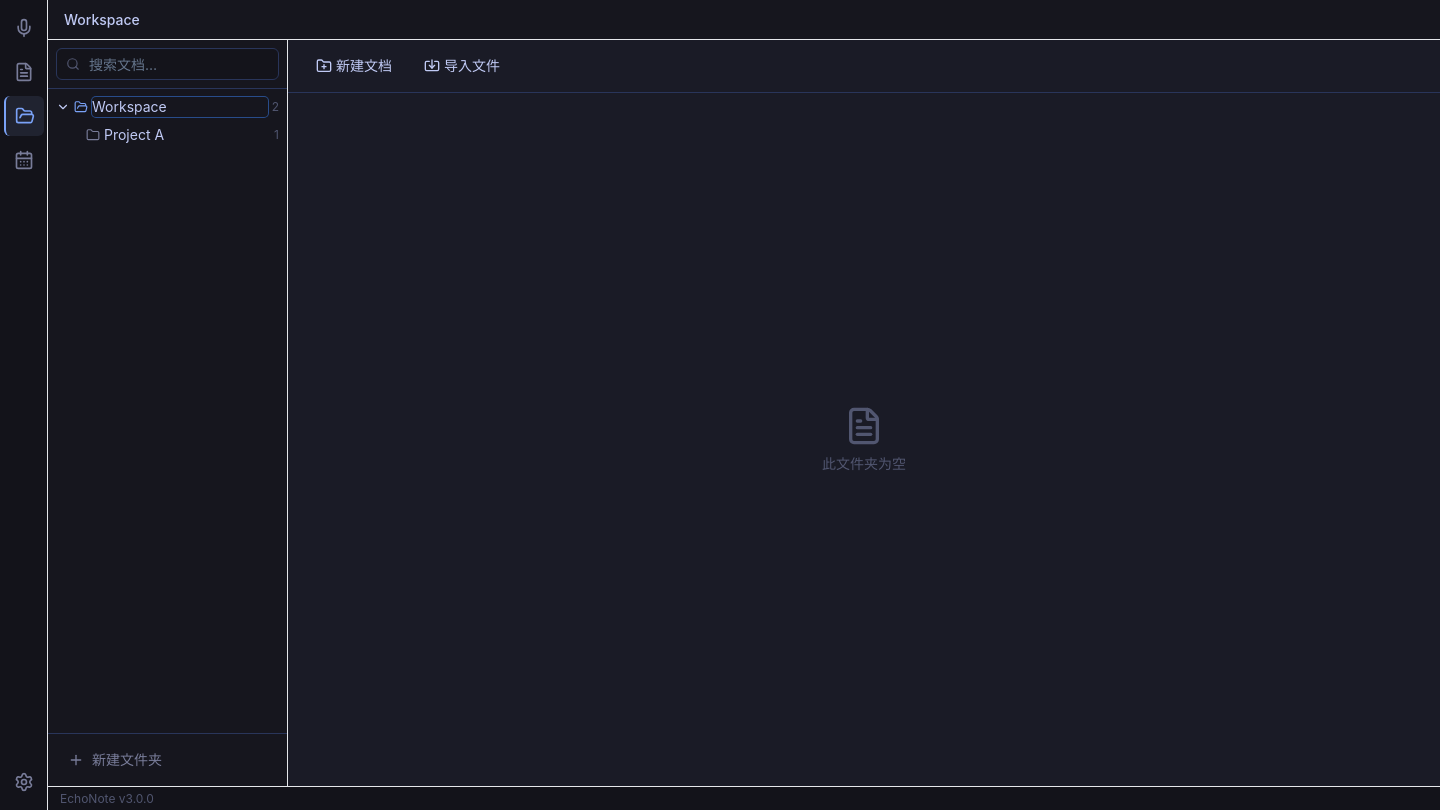
Test: workspace routing › opens an imported document in the editor after file selection
Step 1. Click the button "导入文件" → (462, 66), box [412,48,512,84]
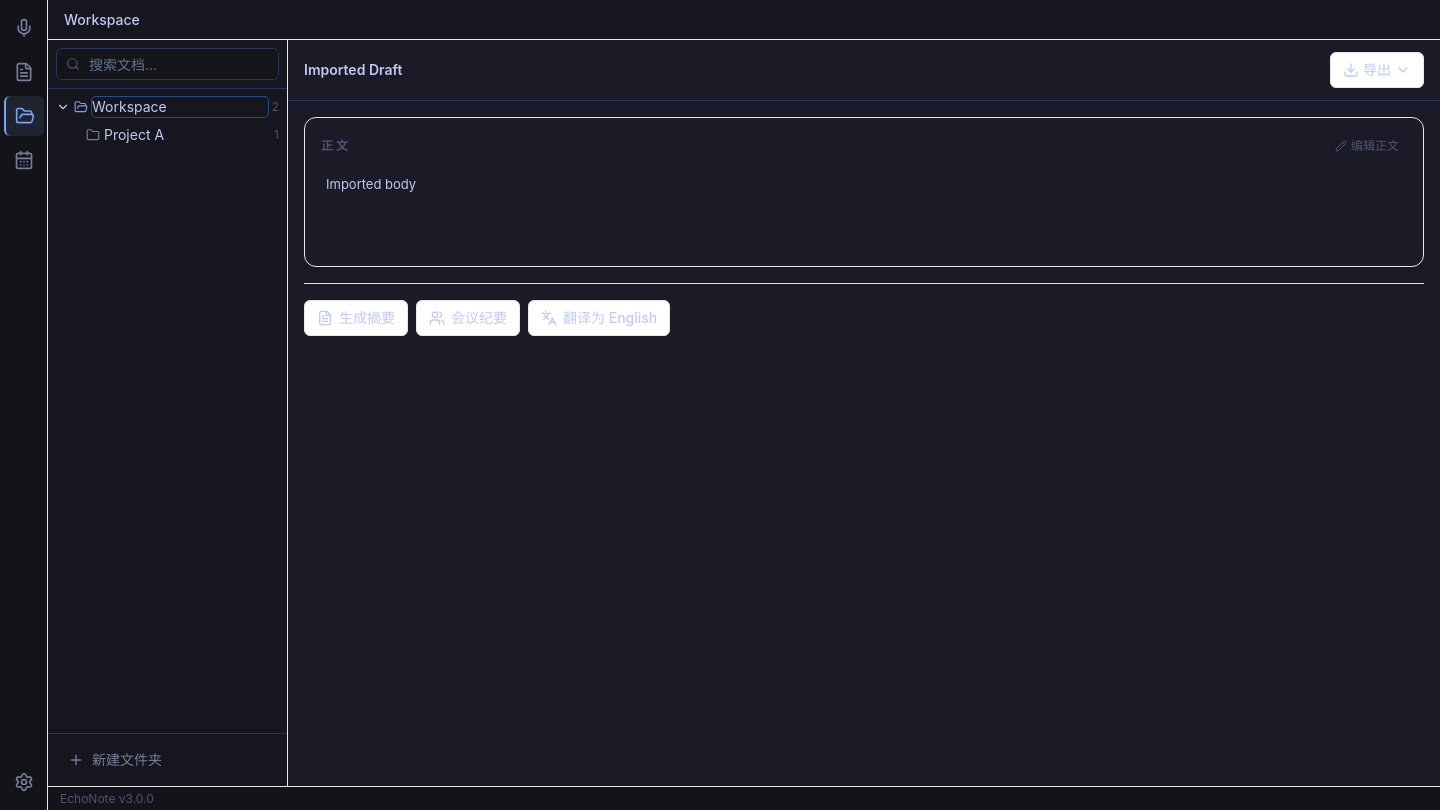
Check: the field named "标题" holds "Imported Draft", box [304,60,1318,80]
Check: the text "Imported body" is shown, box [326,176,416,192]
Check: the button "编辑正文" is shown, box [1327,134,1407,158]
